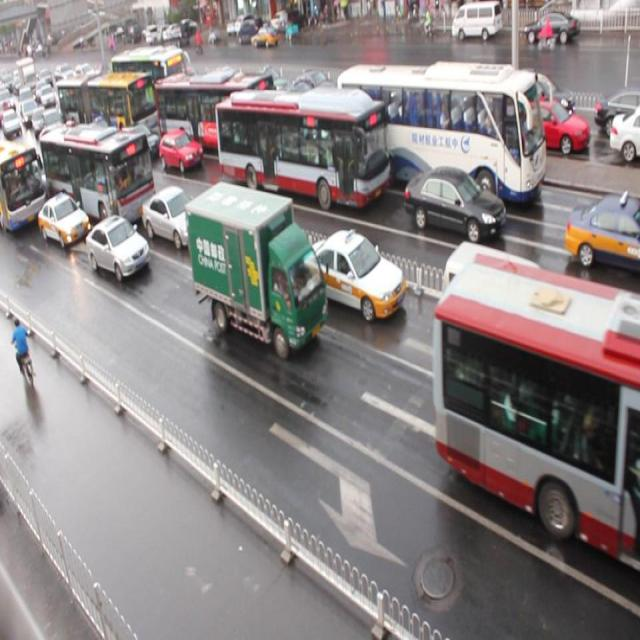bus: (184, 182, 327, 356)
car: (300, 228, 404, 321), (402, 165, 505, 242), (564, 192, 640, 270), (85, 212, 151, 281), (141, 185, 208, 250), (36, 187, 88, 243), (159, 128, 202, 172), (116, 123, 160, 164)
truck: (440, 240, 568, 386), (216, 186, 292, 276)
van: (432, 253, 640, 572), (337, 64, 545, 206), (215, 86, 388, 208), (38, 121, 156, 232), (154, 70, 274, 160), (58, 71, 158, 132), (1, 134, 46, 226)
